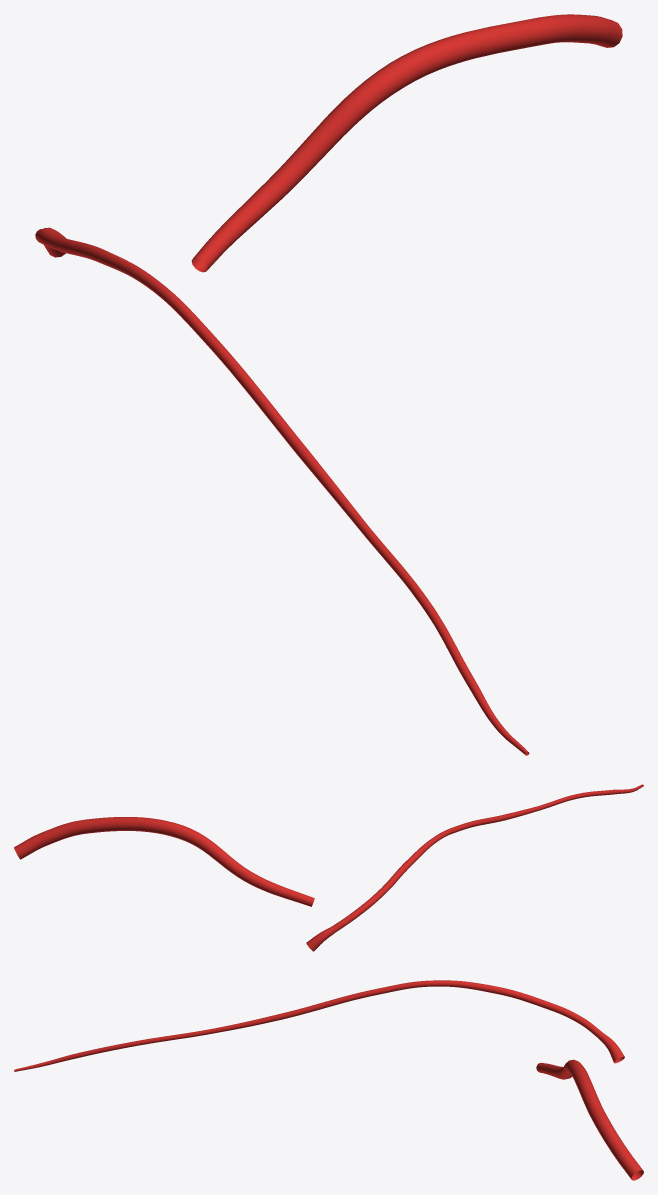
Rendered from circulatorio-artery-of-pterygoid-canal-l.glb.
3 views of the same model, one above another, from view 1: azimuth 30°, elevation 25°; view 2: azimuth 150°, elevation 25°; view 3: azimuth 270°, elevation 25° (orthographic). The views are drawn at different scales.
Visible parts, largest first — view 1: Artery of pterygoid canal.l, ?x.l; view 2: Artery of pterygoid canal.l, ?x.l; view 3: ?x.l, Artery of pterygoid canal.l.
Part boxes in pixels (x1,y1,x2,y2): Artery of pterygoid canal.l: [191, 14, 622, 272]; ?x.l: [35, 227, 529, 755]; Artery of pterygoid canal.l: [14, 817, 314, 906]; ?x.l: [306, 784, 643, 951]; ?x.l: [14, 980, 624, 1071]; Artery of pterygoid canal.l: [536, 1059, 643, 1180].
Bounding box in the file's own units: 0.0335 × 0.0101 × 0.0502.
